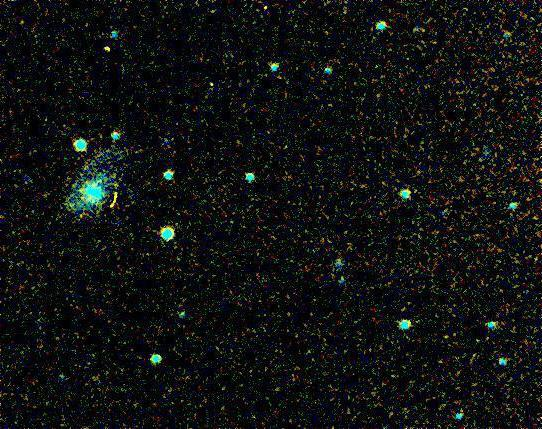star: (87, 36, 117, 66)
